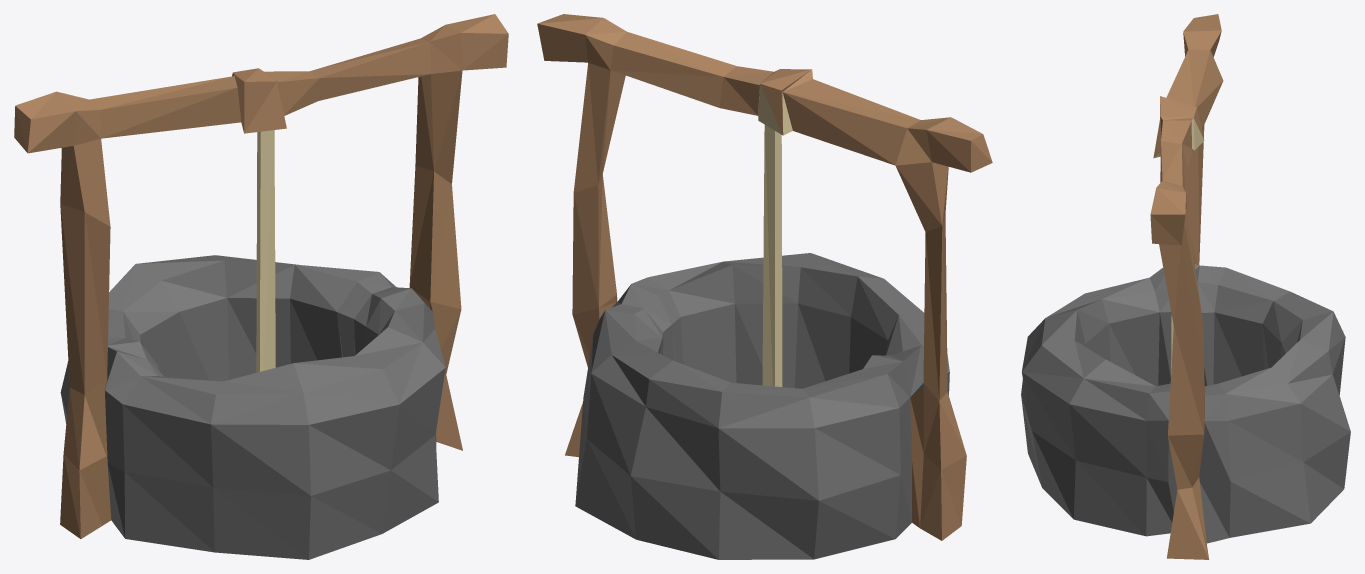
The model's file is water_well.fbx.
The picture shows the model from 3 angles, left to right: view 1: azimuth 30°, elevation 25°; view 2: azimuth 150°, elevation 25°; view 3: azimuth 270°, elevation 25°; orthographic projection. The views are drawn at different scales.
Visible parts, largest first — view 1: Water Well, rope; view 2: Water Well, rope; view 3: Water Well.
Part boxes in pixels (left/top/right/bottom): Water Well: left=14, top=14, right=508, bottom=559; rope: left=256, top=130, right=275, bottom=372; Water Well: left=537, top=14, right=992, bottom=559; rope: left=762, top=125, right=782, bottom=386; Water Well: left=1021, top=14, right=1350, bottom=559.
Bounding box in the file's own units: 1174 × 1033 × 832.
